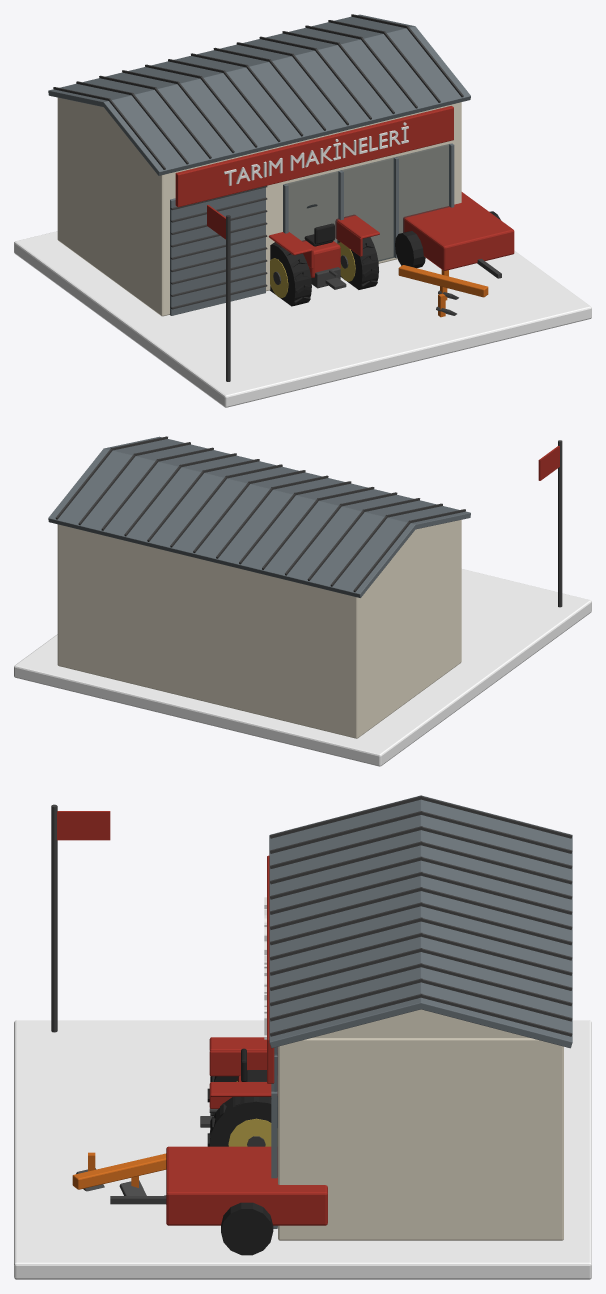
File: bayi.glb
3 views of the same model, one above another, from view 1: azimuth 30°, elevation 25°; view 2: azimuth 150°, elevation 25°; view 3: azimuth 270°, elevation 25° (orthographic). The views are drawn at different scales.
Parts seen in each view (by area): view 1: Alin; view 2: Alin; view 3: Alin.
Boxes of the visible parts, left/top/right/bottom form: Alin: left=14, top=14, right=591, bottom=407; Alin: left=14, top=436, right=591, bottom=766; Alin: left=14, top=795, right=591, bottom=1279.
Bounding box in the file's own units: 1 × 0.5086 × 1.
